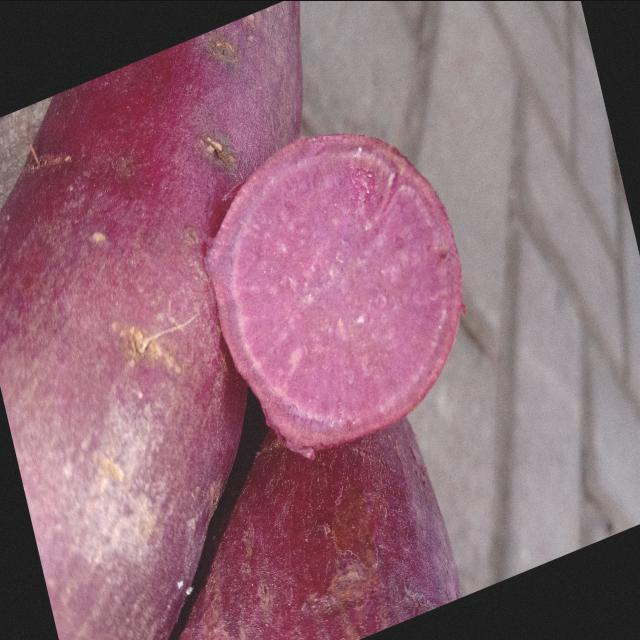Healthy Sweet Potato: (205, 133, 462, 455)
